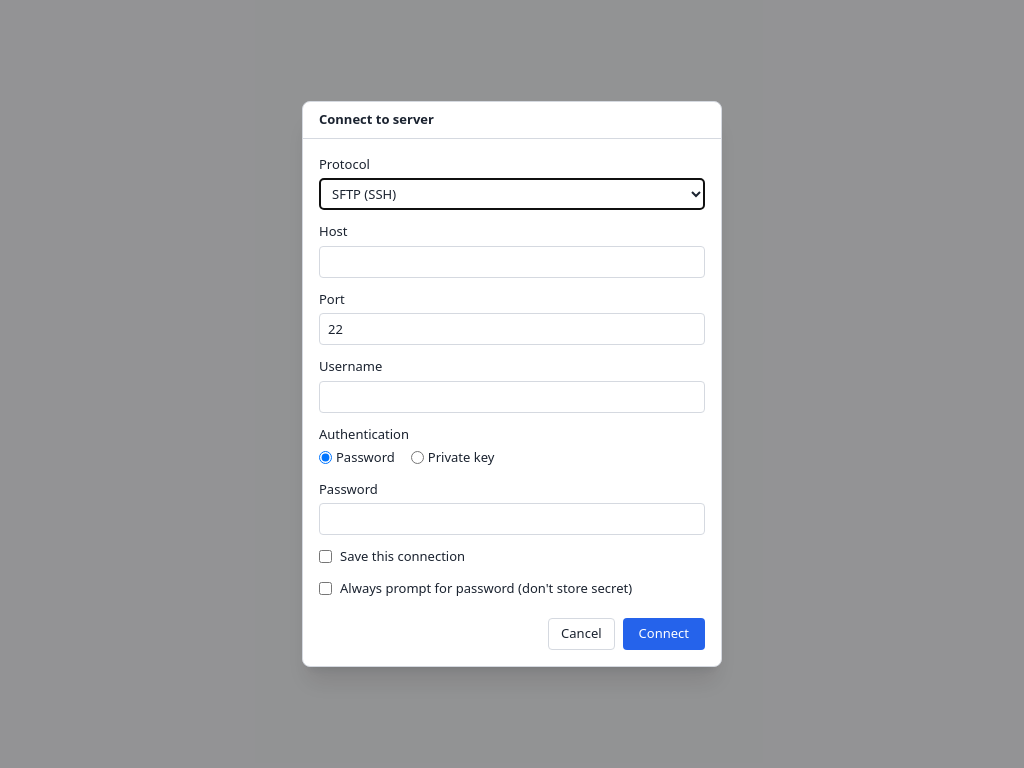
ConnectDialog › switching to key method shows the private key textarea
Expected: the field with placeholder "BEGIN OPENSSH PRIVATE KEY" is not shown
Click the radio button labelled "Private key". click: (417, 458)
box: [411,451,424,464]
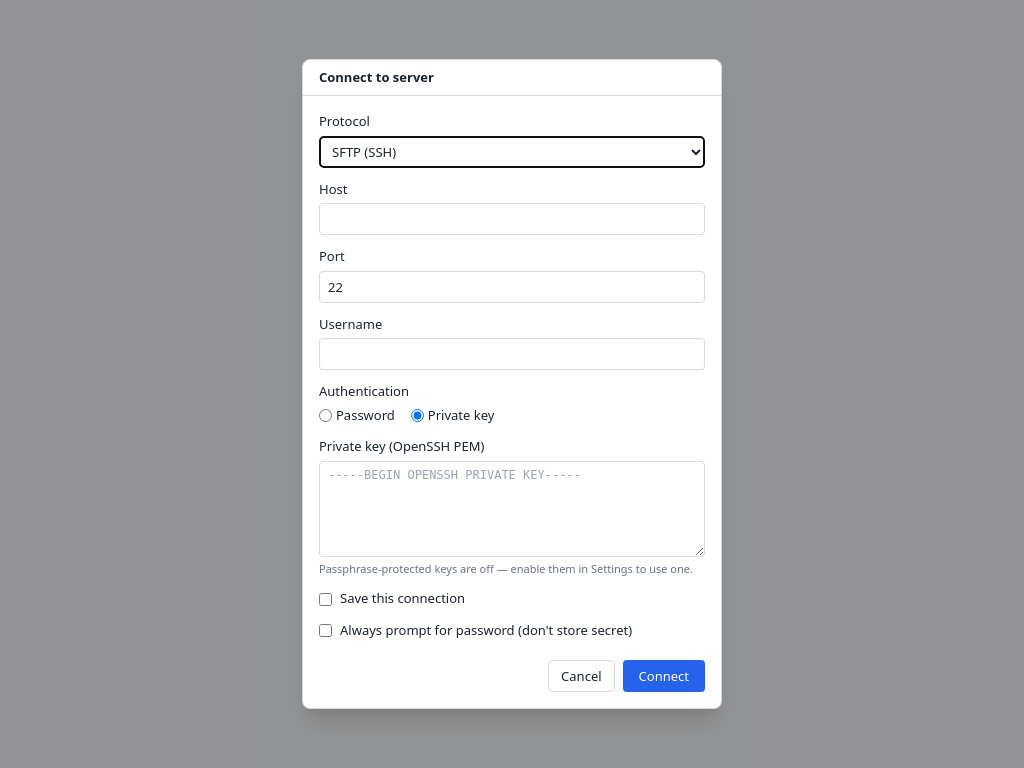
Expected: the text box with placeholder "-----BEGIN OPENSSH PRIVATE KEY-----" is shown, [319,461,705,557]
